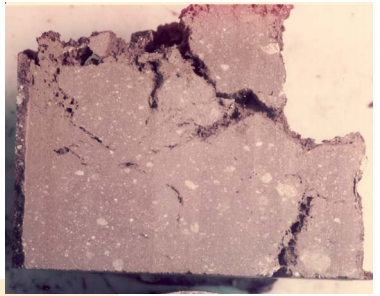Breccia: (13, 36, 362, 273), (109, 34, 274, 262)
